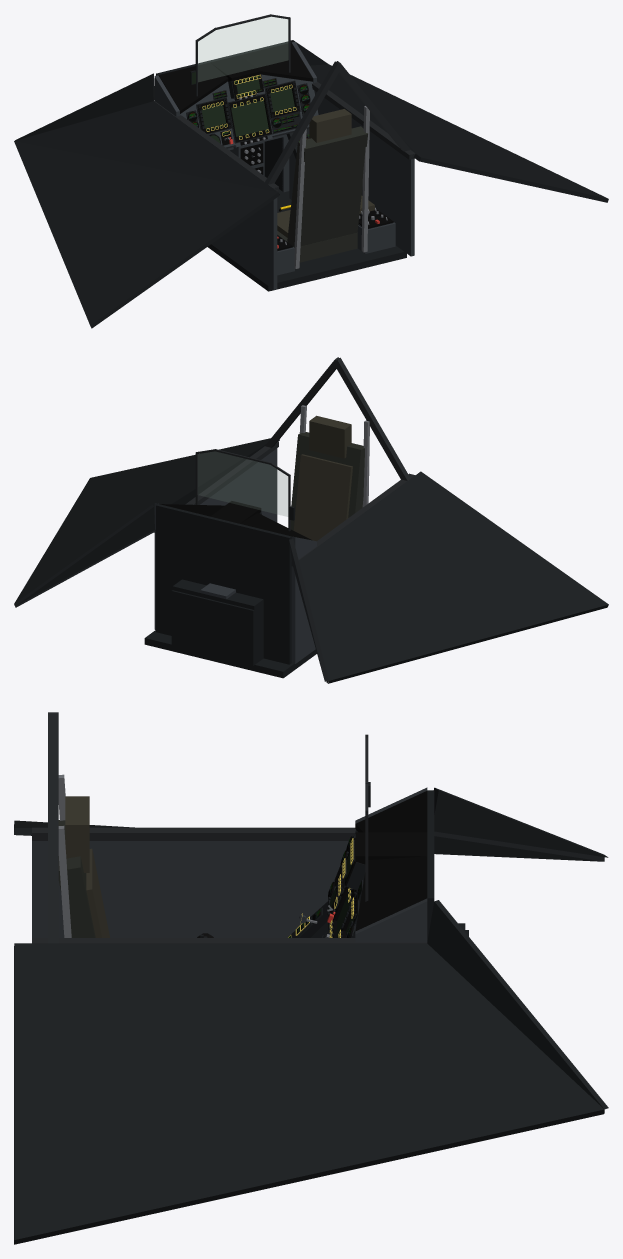
File: cockpit_modern.glb
3 views of the same model, one above another, from view 1: azimuth 30°, elevation 25°; view 2: azimuth 150°, elevation 25°; view 3: azimuth 270°, elevation 25° (orthographic). The views are drawn at different scales.
Visible parts, largest first — view 1: dark.008, dark.009, seat_95, hud_glass_69, panel_grey.009, black, panel_grey.007, dark_83, frame.002, cushion_97, screen_right, seat_93 (+13 smaller); view 2: dark.008, dark.009, dark, dark.013, hud_glass_69, cushion_96, panel_grey.009, seat_95, black, dark_83, cushion_97, panel_grey.007 (+7 smaller); view 3: dark.009, panel_grey.007, black, dark.008, frame, frame.003, panel_grey.010, frame.001, seat_95, cushion_97, cushion_96, dark (+1 smaller).
Part boxes in pixels (box(x1,y1,x2,y2)): dark.008: box(14, 73, 279, 328); dark.009: box(290, 40, 608, 202); seat_95: box(287, 126, 367, 247); hud_glass_69: box(198, 17, 288, 81); panel_grey.009: box(292, 78, 414, 256); black: box(158, 43, 312, 113); panel_grey.007: box(211, 188, 277, 289); dark_83: box(207, 189, 406, 291); frame.002: box(265, 61, 342, 184); cushion_97: box(309, 109, 351, 142); screen_right: box(231, 100, 268, 136); seat_93: box(277, 231, 357, 262); dark.008: box(289, 471, 608, 683); dark.009: box(14, 438, 279, 607); dark: box(156, 504, 291, 664); dark.013: box(171, 590, 254, 665); hud_glass_69: box(198, 452, 287, 516); cushion_96: box(293, 454, 352, 541); panel_grey.009: box(154, 448, 277, 629); seat_95: box(290, 432, 364, 530); black: box(159, 501, 312, 540); dark_83: box(144, 630, 316, 678); cushion_97: box(309, 415, 351, 458); panel_grey.007: box(291, 566, 315, 663); dark.009: box(14, 900, 608, 1244); panel_grey.007: box(32, 841, 348, 937); black: box(355, 791, 427, 931); dark.008: box(14, 787, 608, 861); frame: box(32, 827, 355, 840); frame.003: box(48, 714, 58, 943); panel_grey.010: box(355, 898, 427, 942); frame.001: box(32, 938, 427, 943); seat_95: box(58, 820, 95, 937); cushion_97: box(65, 796, 89, 872); cushion_96: box(86, 848, 109, 937); dark: box(427, 790, 434, 941).
Size of the model in its own units: 4.12 by 1.61 by 2.47.
Materials: 27 (6 with a texture image).
